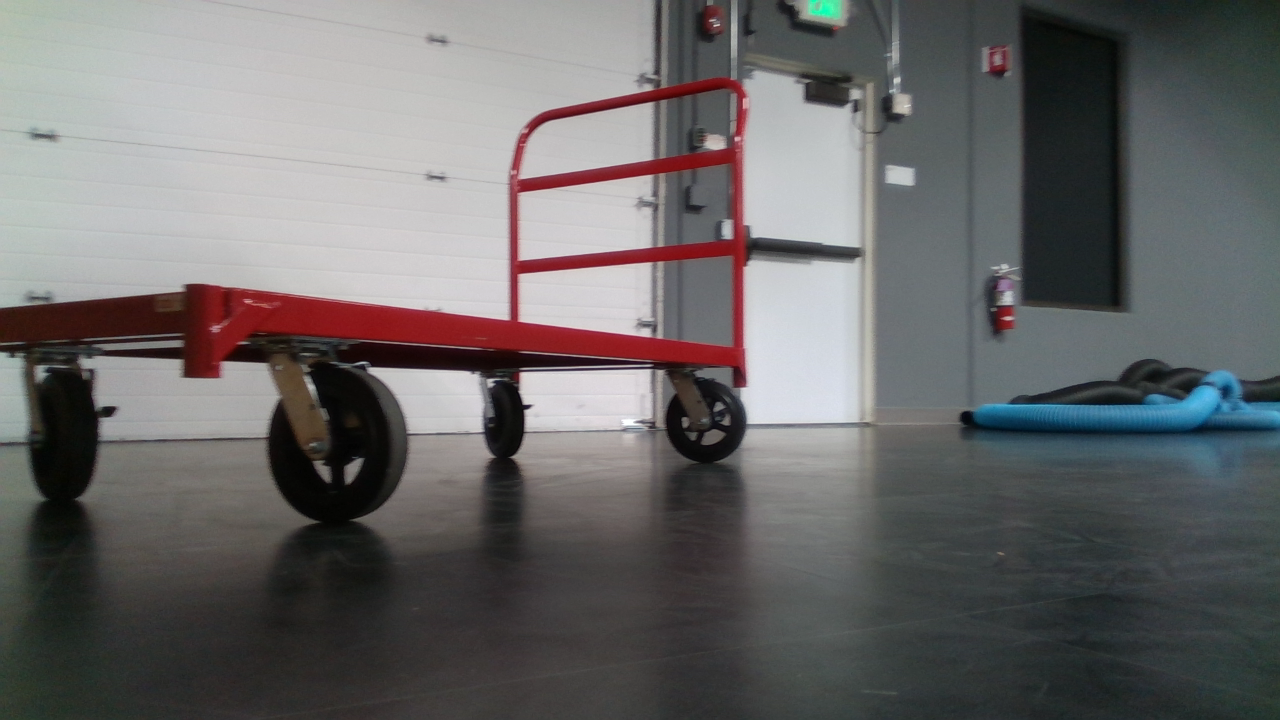Dolly: (0, 75, 749, 524)
Wheel: (264, 364, 409, 522), (25, 369, 116, 504), (665, 375, 747, 464), (479, 376, 534, 459)
